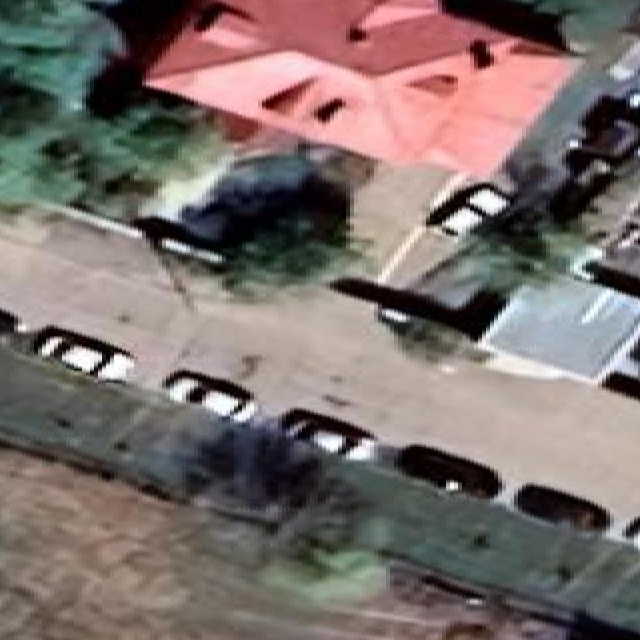car: (396, 445, 502, 498), (32, 326, 134, 381), (162, 370, 256, 423), (280, 409, 376, 460), (427, 183, 510, 235), (0, 309, 21, 335)
